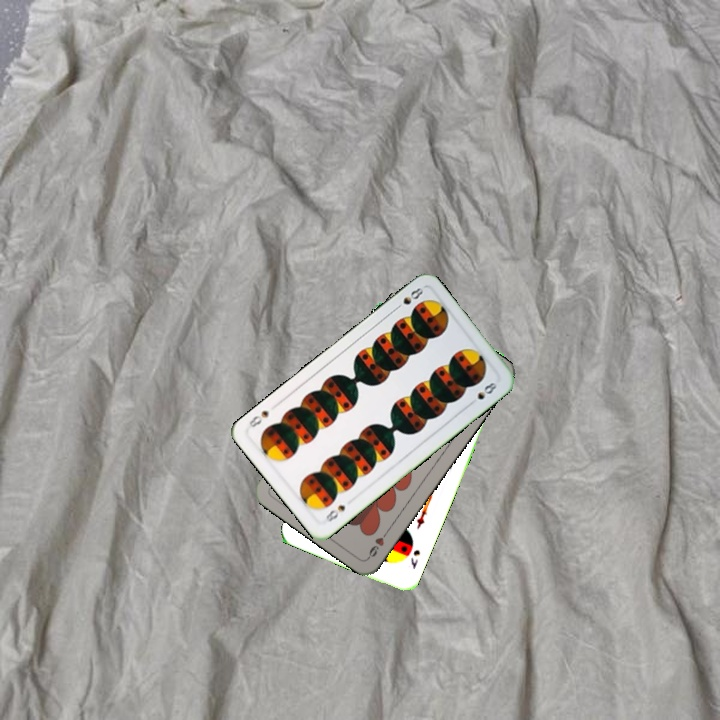H9: (364, 525, 392, 561)
S8: (390, 283, 426, 313), (321, 501, 348, 527)
SK: (406, 545, 423, 572)
